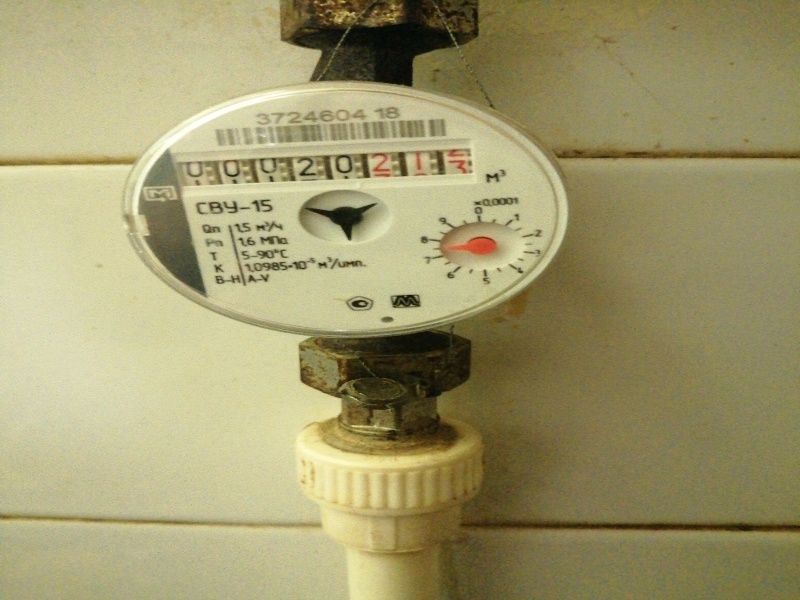meter: (174, 149, 473, 186)
